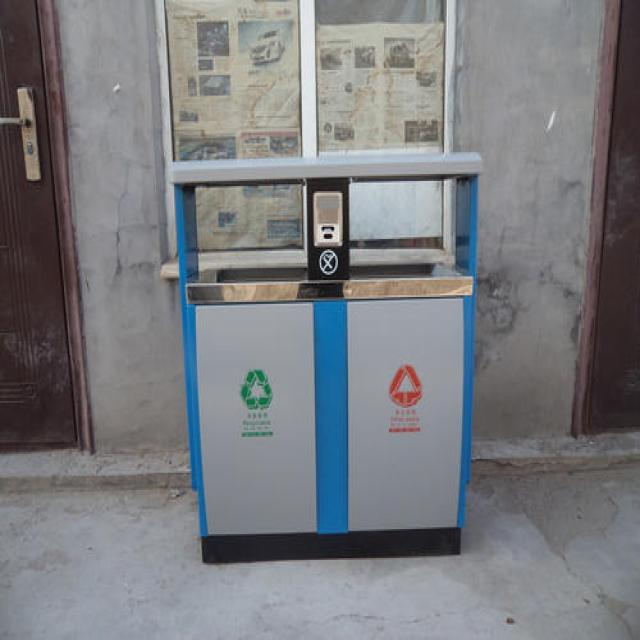garbage_bin: (170, 150, 482, 565)
